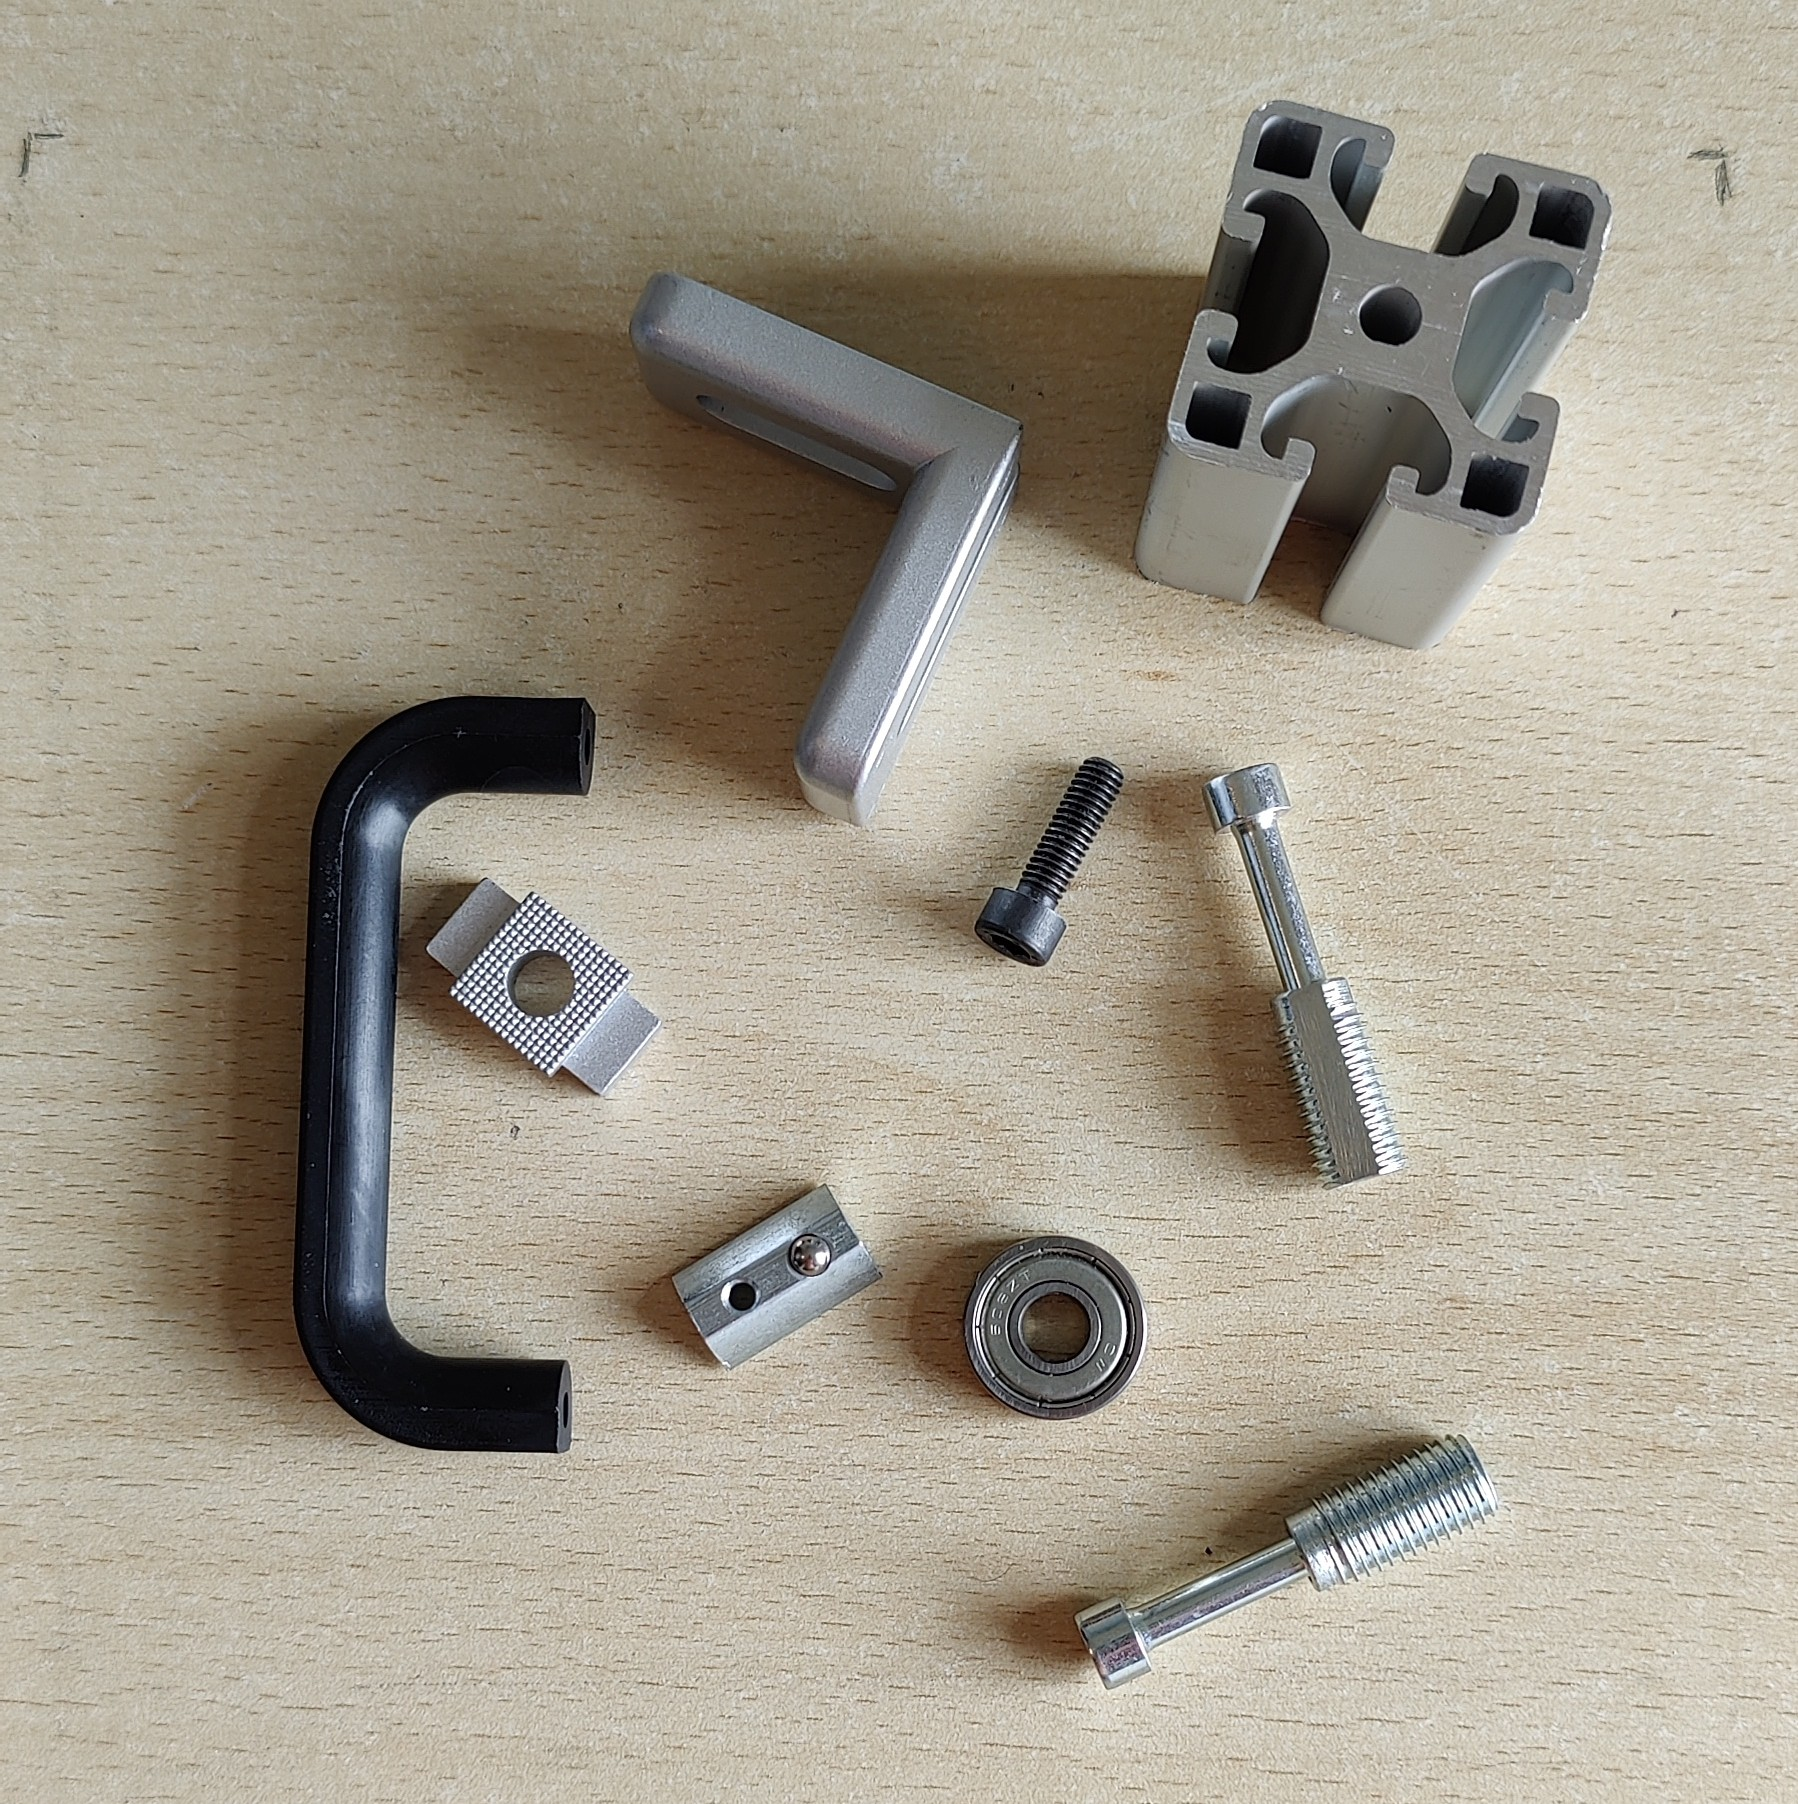Aluminium Extension: (1133, 97, 1614, 653)
Ball Bearing: (958, 1233, 1153, 1424)
Multiwinkel: (626, 263, 1027, 830)
Pull Handle: (286, 691, 599, 1458)
Shoulder Socket Head Cap Screw: (1070, 1430, 1500, 1694), (1199, 760, 1413, 1193)
Socket Head Cap Screw: (975, 752, 1130, 969)
T Nut Square: (418, 877, 665, 1100)
T Spring Nut: (667, 1182, 884, 1369)
